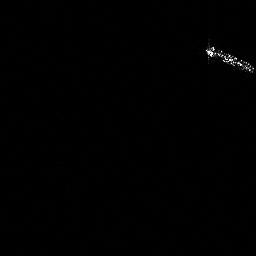ship: (203, 41, 256, 76)
